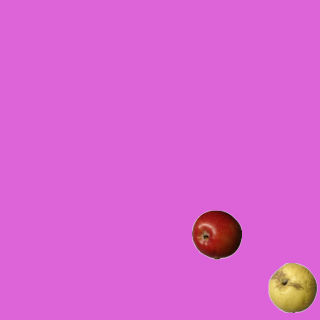Apple Braeburn: (191, 209, 241, 259)
Apple Golden 1: (267, 262, 317, 312)
